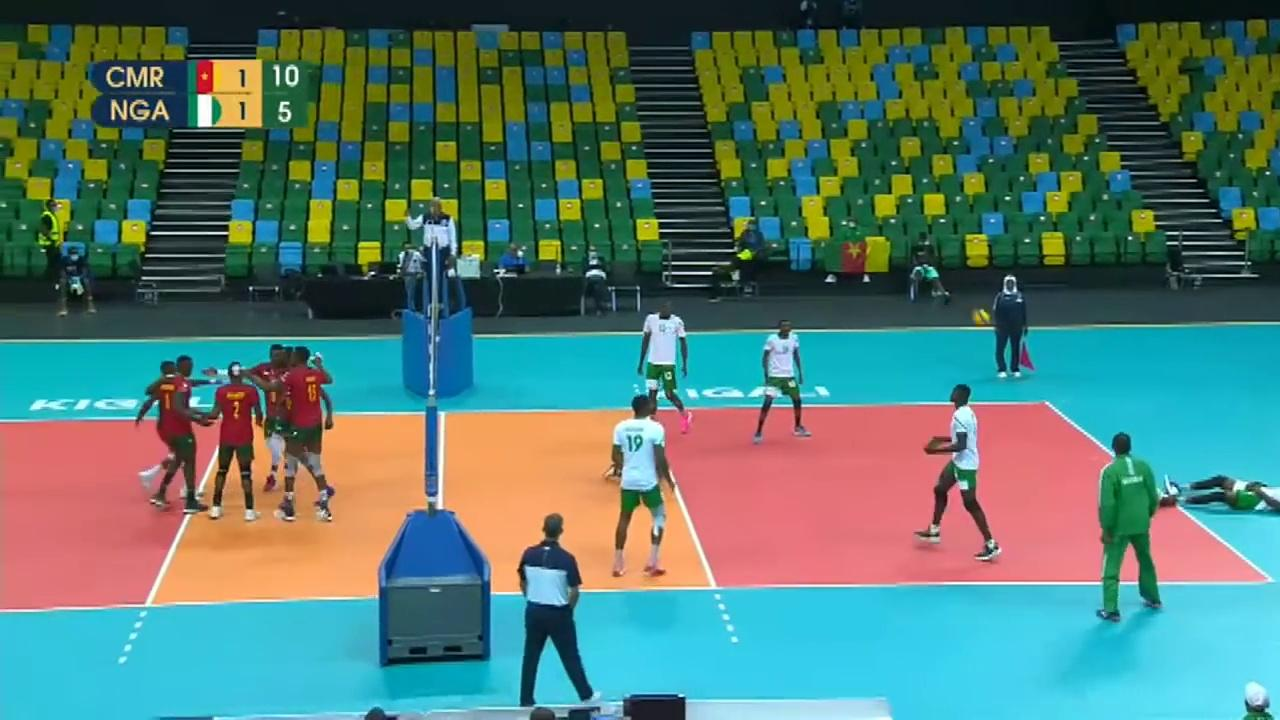player: (916, 386, 1000, 556), (605, 394, 674, 582), (201, 360, 270, 519), (286, 355, 336, 529), (636, 300, 696, 434), (755, 317, 817, 441), (1158, 461, 1280, 519), (264, 349, 310, 493), (161, 354, 202, 514), (144, 356, 186, 490), (251, 339, 287, 486)
refree: (515, 516, 602, 710), (412, 197, 459, 302), (986, 275, 1031, 377)
